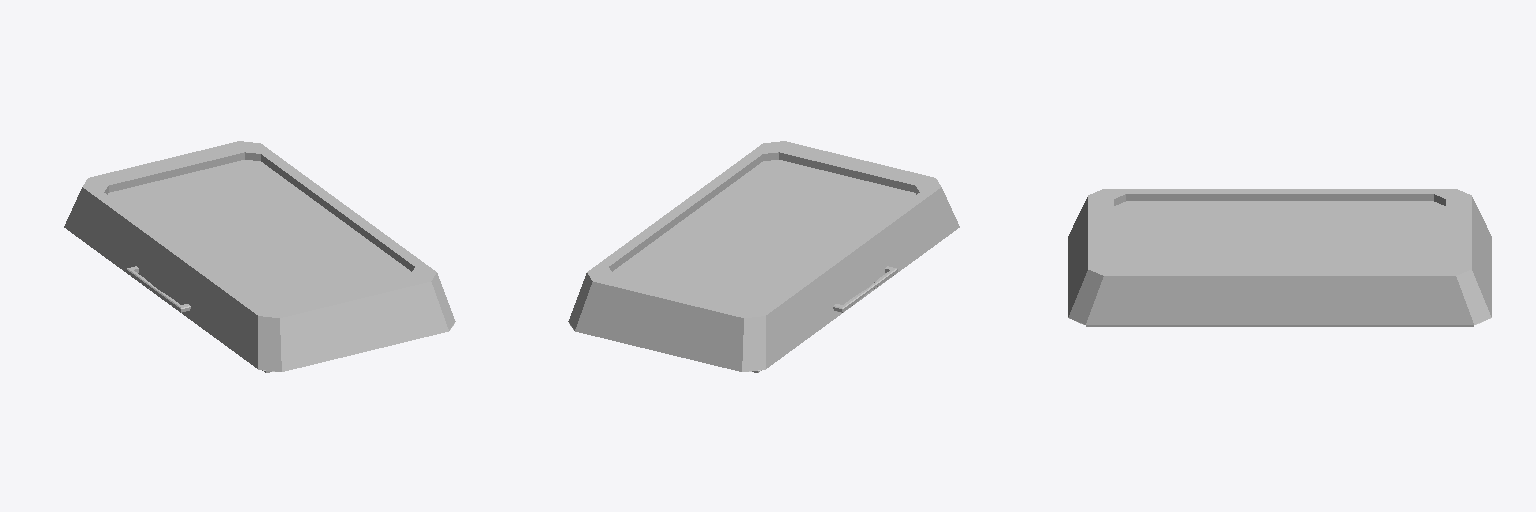
The model's file is powerCellContainer_lid.obj.
The picture shows the model from 3 angles: view 1: azimuth 30°, elevation 25°; view 2: azimuth 150°, elevation 25°; view 3: azimuth 270°, elevation 25°; orthographic projection.
Visible parts, largest first — view 1: polySurface4 powerCellContainer; view 2: polySurface4 powerCellContainer; view 3: polySurface4 powerCellContainer.
Part boxes in pixels (bbox=[...]): polySurface4 powerCellContainer: bbox=[64, 141, 455, 372]; polySurface4 powerCellContainer: bbox=[568, 141, 959, 372]; polySurface4 powerCellContainer: bbox=[1068, 189, 1491, 326].
Bounding box in the file's own units: 1.48 × 0.3501 × 2.64.